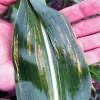Corn leaf blight: (13, 0, 92, 99)
